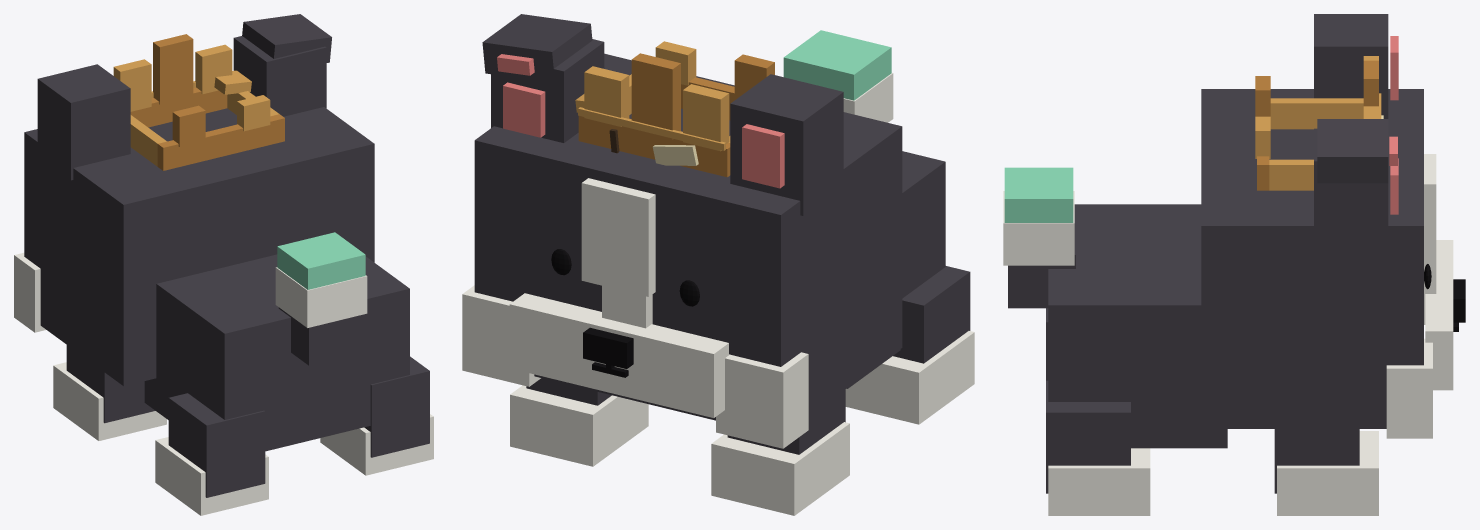
Rendered from BorderCollie_Block.gltf.
The picture shows the model from 3 angles, left to right: view 1: azimuth 30°, elevation 25°; view 2: azimuth 150°, elevation 25°; view 3: azimuth 270°, elevation 25°; orthographic projection. The views are drawn at different scales.
Visible parts, largest first — view 1: BigHead, ShortTorso, ChunkyEarL, LegBL_Leg, ChunkyEarR, LegBR_Leg, TailMintTip, LegBL_Paw, TailWhiteBand, LegFL_Paw, CrownBackBand, EarTopFoldR (+12 smaller); view 2: BigHead, WhiteMuzzle, ChunkyEarL, LegFL_Paw, WhiteBlazeUpper, LegFR_Paw, HangingCheekFluffL, LegBL_Paw, ShortTorso, LegBL_Leg, TailMintTip, ChunkyEarR (+18 smaller); view 3: BigHead, ShortTorso, LegFR_Paw, ChunkyEarL, LegBR_Paw, LegBR_Leg, EarTopFoldR, ChunkyEarR, TailMintTip, HangingCheekFluffR, WhiteMuzzle, LegFR_Leg (+10 smaller).
Boxes of the visible parts, bbox=[...] form: BigHead: bbox=[24, 107, 374, 386]; ShortTorso: bbox=[144, 254, 409, 451]; ChunkyEarL: bbox=[37, 64, 130, 180]; LegBL_Leg: bbox=[168, 393, 265, 497]; ChunkyEarR: bbox=[233, 36, 326, 116]; LegBR_Leg: bbox=[364, 356, 429, 457]; TailMintTip: bbox=[277, 232, 365, 289]; LegBL_Paw: bbox=[155, 437, 268, 515]; TailWhiteBand: bbox=[275, 267, 367, 327]; LegFL_Paw: bbox=[53, 362, 166, 440]; CrownBackBand: bbox=[157, 114, 284, 170]; EarTopFoldR: bbox=[242, 14, 331, 62]; BigHead: bbox=[474, 53, 902, 420]; WhiteMuzzle: bbox=[509, 293, 728, 417]; ChunkyEarL: bbox=[730, 74, 843, 215]; LegFL_Paw: bbox=[711, 422, 849, 515]; WhiteBlazeUpper: bbox=[581, 178, 655, 296]; LegFR_Paw: bbox=[510, 385, 648, 466]; HangingCheekFluffL: bbox=[716, 352, 808, 448]; LegBL_Paw: bbox=[845, 331, 974, 424]; ShortTorso: bbox=[847, 151, 945, 388]; LegBL_Leg: bbox=[893, 266, 970, 363]; TailMintTip: bbox=[783, 30, 891, 100]; ChunkyEarR: bbox=[491, 39, 604, 142]; BigHead: bbox=[1201, 89, 1423, 428]; ShortTorso: bbox=[1048, 204, 1227, 448]; LegFR_Paw: bbox=[1277, 431, 1378, 515]; ChunkyEarL: bbox=[1314, 14, 1388, 118]; LegBR_Paw: bbox=[1048, 448, 1150, 515]; LegBR_Leg: bbox=[1046, 380, 1130, 493]; EarTopFoldR: bbox=[1317, 119, 1388, 183]; ChunkyEarR: bbox=[1314, 128, 1388, 241]; TailMintTip: bbox=[1004, 167, 1073, 222]; HangingCheekFluffR: bbox=[1386, 338, 1432, 438]; WhiteMuzzle: bbox=[1425, 240, 1453, 390]; LegFR_Leg: bbox=[1274, 429, 1359, 493].
Size of the model in its own units: 2.23 by 2.73 by 2.99.
